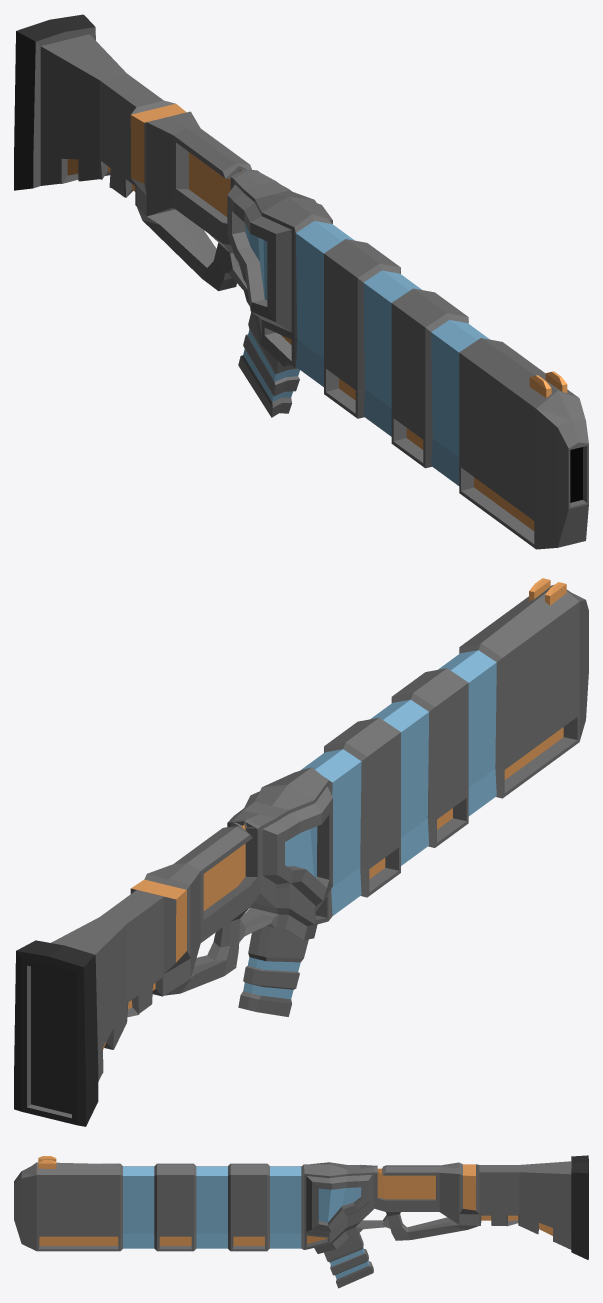
Rendered from sciFIGun.fbx.
The picture shows the model from 3 angles, top to bottom: view 1: azimuth 30°, elevation 25°; view 2: azimuth 150°, elevation 25°; view 3: azimuth 270°, elevation 25°; orthographic projection. The views are drawn at different scales.
Visible parts, largest first — view 1: Cube.001; view 2: Cube.001; view 3: Cube.001, Cube.003.
Boxes of the visible parts, <box> form: Cube.001: <box>14,14,588,549</box>; Cube.001: <box>14,584,588,1126</box>; Cube.001: <box>14,1155,588,1288</box>; Cube.003: <box>38,1156,56,1168</box>.
Bounding box in the file's own units: 159 × 477 × 1940.
